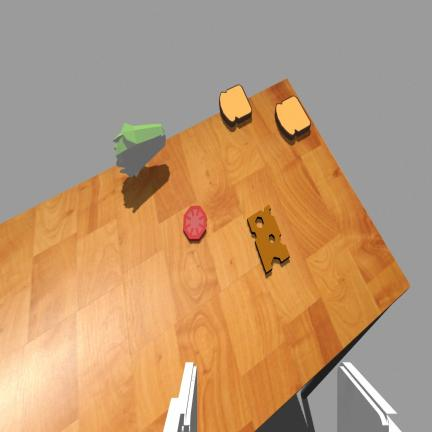cheese: (247, 205, 289, 273)
lettuce: (114, 123, 165, 176)
sliced_bread: (275, 96, 310, 139), (220, 85, 251, 126)
sliced_tomato: (184, 206, 206, 239)
